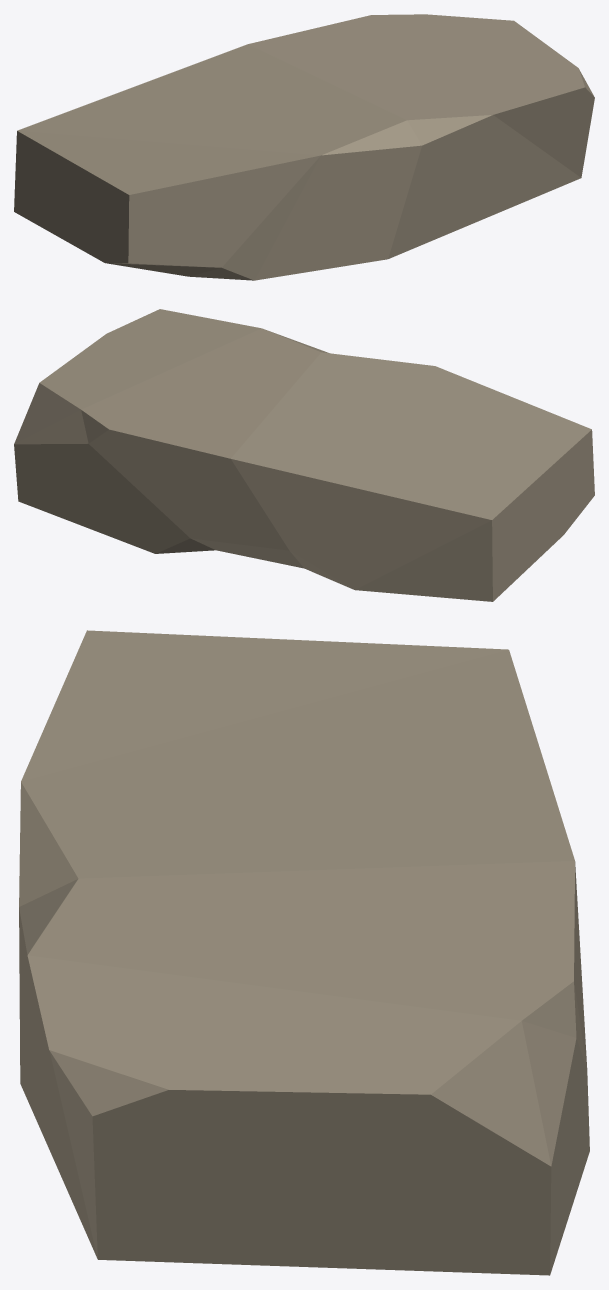
Rendered from SM_Prop_Brick_01.glb.
3 views of the same model, one above another, from view 1: azimuth 30°, elevation 25°; view 2: azimuth 150°, elevation 25°; view 3: azimuth 270°, elevation 25° (orthographic). The views are drawn at different scales.
Parts seen in each view (by area): view 1: SM_Prop_Brick_01; view 2: SM_Prop_Brick_01; view 3: SM_Prop_Brick_01.
Part boxes in pixels (x1=…): SM_Prop_Brick_01: x1=14, y1=14, x2=594, y2=280; SM_Prop_Brick_01: x1=14, y1=309, x2=594, y2=601; SM_Prop_Brick_01: x1=19, y1=630, x2=589, y2=1275.
Size of the model in its own units: 0.7696 by 0.1841 by 0.4012.
Materials: 1 (1 with a texture image).
